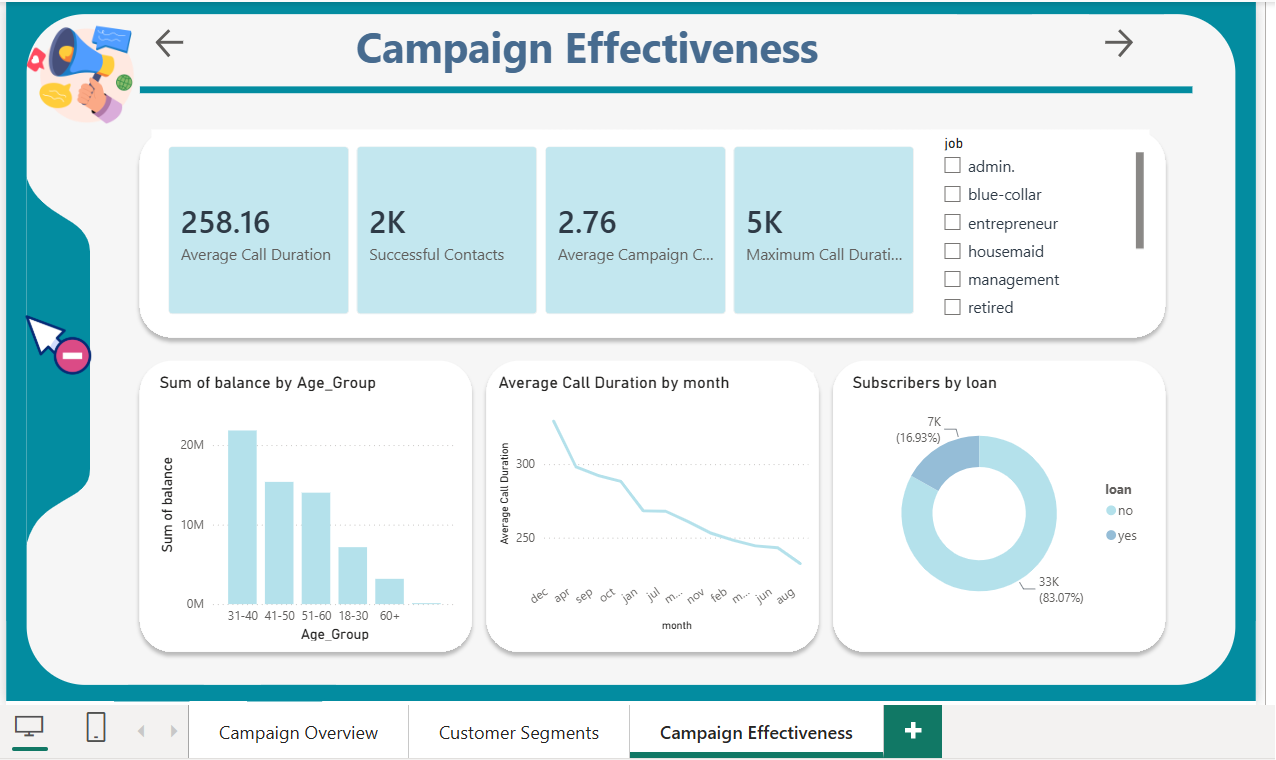

The dashboard page shown, as its layout file describes it:
{"tool":"powerbi","page":{"name":"Campaign Effectiveness","canvas":[1280,720],"ordinal":2},"visuals":[{"type":"textbox","box":[353.3,10,573.3,66.7],"z":0},{"type":"cardVisual","fields":{"Data":["bank_marketing_cleaned.Average Call Duration","bank_marketing_cleaned.Successful Contacts","bank_marketing_cleaned.Average Campaign Calls","bank_marketing_cleaned.Maximum Call Duration"]},"box":[148.8,131.2,798.8,206.2],"z":1000},{"type":"actionButton","box":[148.3,23.3,100,38.3],"z":2000},{"type":"actionButton","box":[1120,23.3,100,38.3],"z":3000},{"type":"lineChart","fields":{"Category":["bank_marketing_cleaned.month"],"Y":["bank_marketing_cleaned.Average Call Duration"]},"box":[499.5,380.1,328,269],"z":4000},{"type":"donutChart","fields":{"Category":["bank_marketing_cleaned.loan"],"Y":["bank_marketing_cleaned.Subscribers"]},"box":[861.8,380.1,317,269],"z":5000},{"type":"slicer","fields":{"Values":["bank_marketing_cleaned.job"]},"box":[947.5,131.2,222.5,206.2],"z":6000},{"type":"image","box":[0,16.7,151.7,115],"z":7000},{"type":"image","box":[20,284.3,67.1,134.3],"z":8000},{"type":"clusteredColumnChart","fields":{"Category":["bank_marketing_cleaned.Age_Group"],"Y":["Sum(bank_marketing_cleaned.balance)"]},"box":[152,380,313.7,279.9],"z":9000}]}

Visuals, with their boxes on the page's 1280x720 design canvas (x1, y1, x2, y2). These are canvas units, not pixel positions in the 1276x760 screenshot, which may show the page scaled, cropped or inside an application window:
textbox: (x1=353, y1=10, x2=927, y2=77)
cardVisual - bank_marketing_cleaned.Average Call Duration x bank_marketing_cleaned.Successful Contacts: (x1=149, y1=131, x2=948, y2=337)
actionButton: (x1=148, y1=23, x2=248, y2=62)
actionButton: (x1=1120, y1=23, x2=1220, y2=62)
lineChart - bank_marketing_cleaned.month x bank_marketing_cleaned.Average Call Duration: (x1=500, y1=380, x2=828, y2=649)
donutChart - bank_marketing_cleaned.loan x bank_marketing_cleaned.Subscribers: (x1=862, y1=380, x2=1179, y2=649)
slicer - bank_marketing_cleaned.job: (x1=948, y1=131, x2=1170, y2=337)
image: (x1=0, y1=17, x2=152, y2=132)
image: (x1=20, y1=284, x2=87, y2=419)
clusteredColumnChart - bank_marketing_cleaned.Age_Group x Sum(bank_marketing_cleaned.balance): (x1=152, y1=380, x2=466, y2=660)
